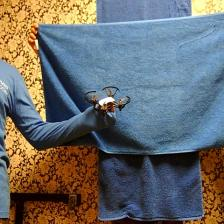drone: (86, 85, 131, 116)
